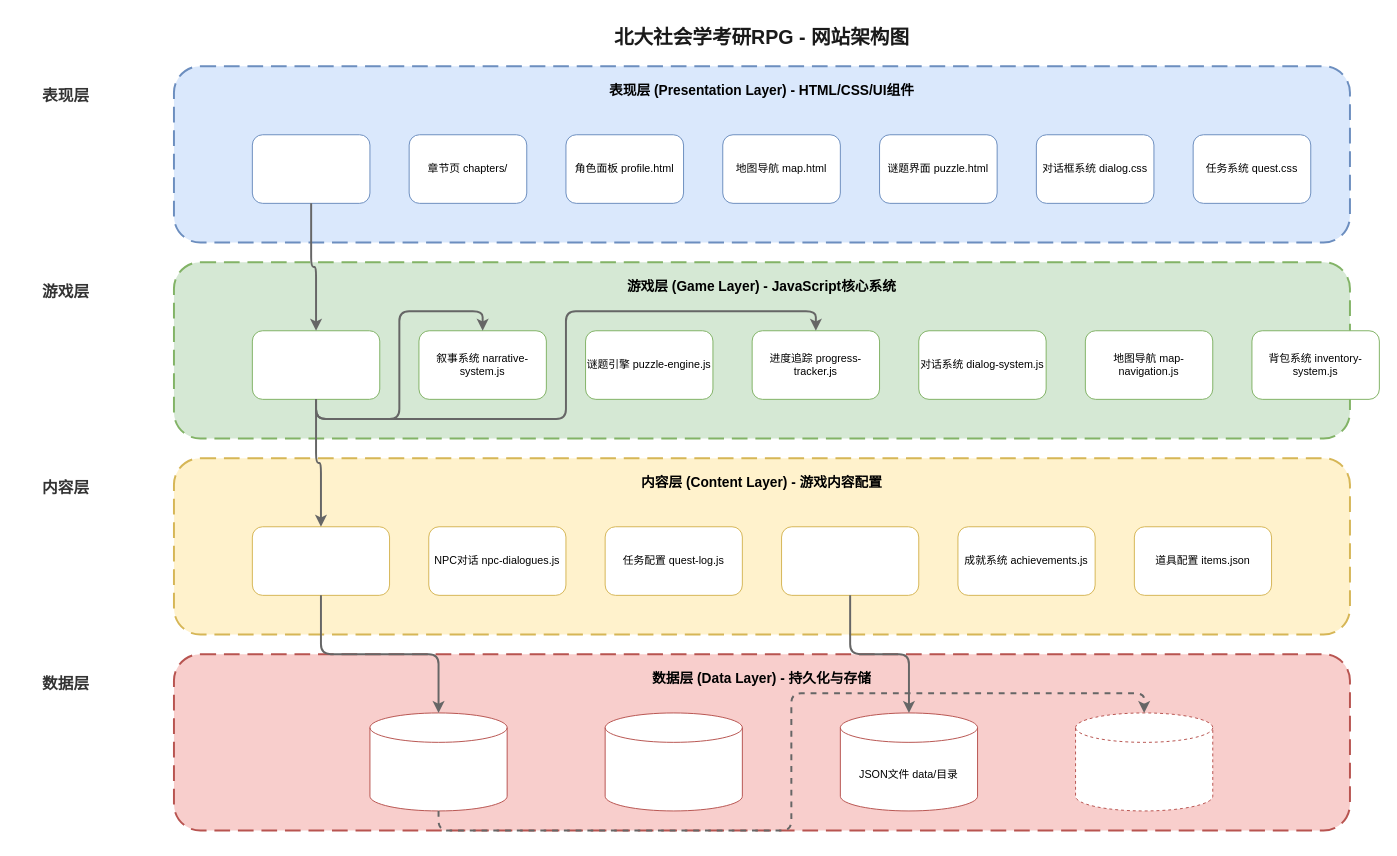
The diagram is 1397 pixels wide and 856 high, and some of its shapes have lost their labels. Each missing label, with the centre of its shape:
IndexedDB 大数据存储: (673,761)
localStorage 存档系统: (438,761)
云端同步 (可选): (1144,761)
游戏引擎 game-engine.js: (315,364)
章节内容 chapters/*.html: (320,560)
题目库 question-bank.js: (850,560)
首页 home.html: (310,168)
